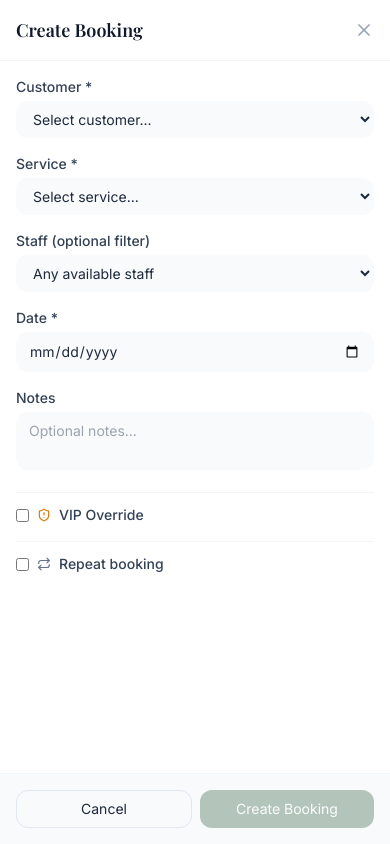
Test: BookingFormModal — VIP Override › shows warning message when VIP Override is checked
Click the checkbox labelled "VIP Override": (22, 515) [16,508,29,522]
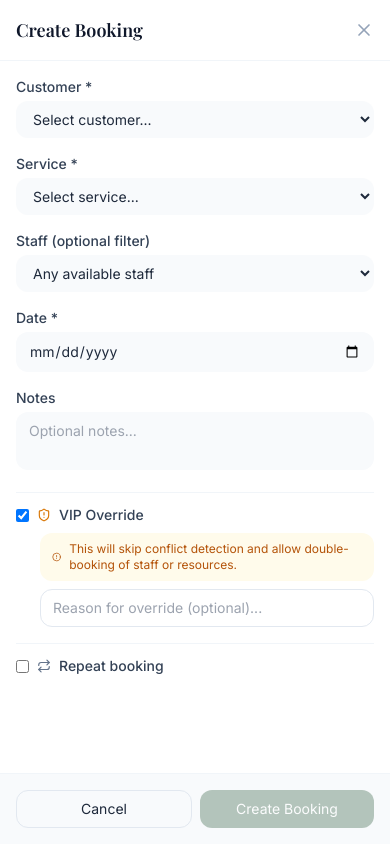
expect the text "skip conflict detection and allow double-booking" is shown: met, box [69,541,349,572]
